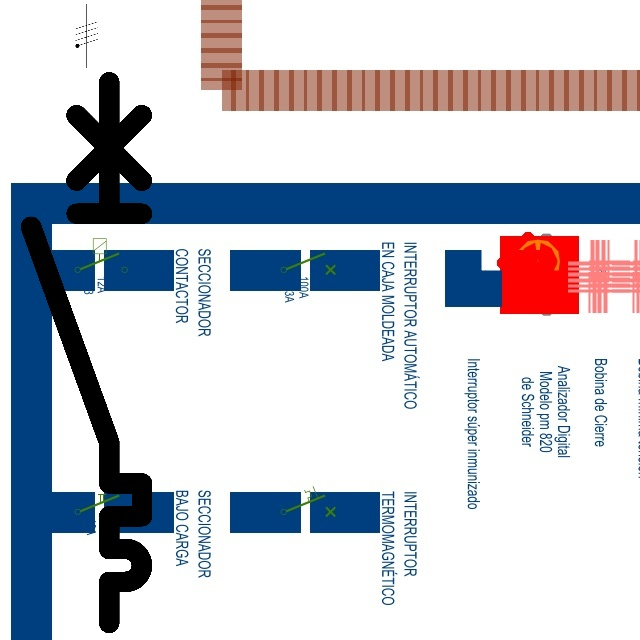interruptor_termomagnetico: (17, 68, 156, 637)
